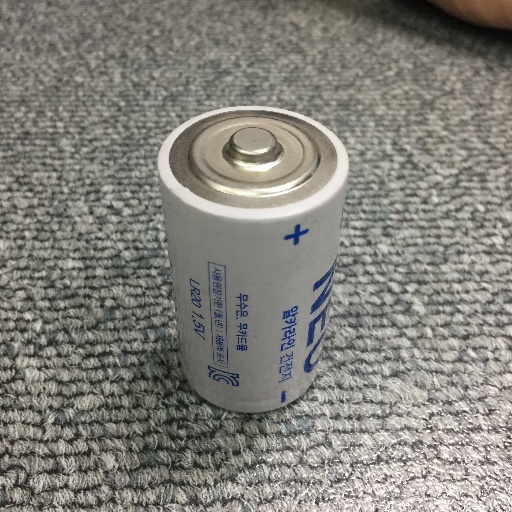Battery_0: (150, 93, 355, 421)
